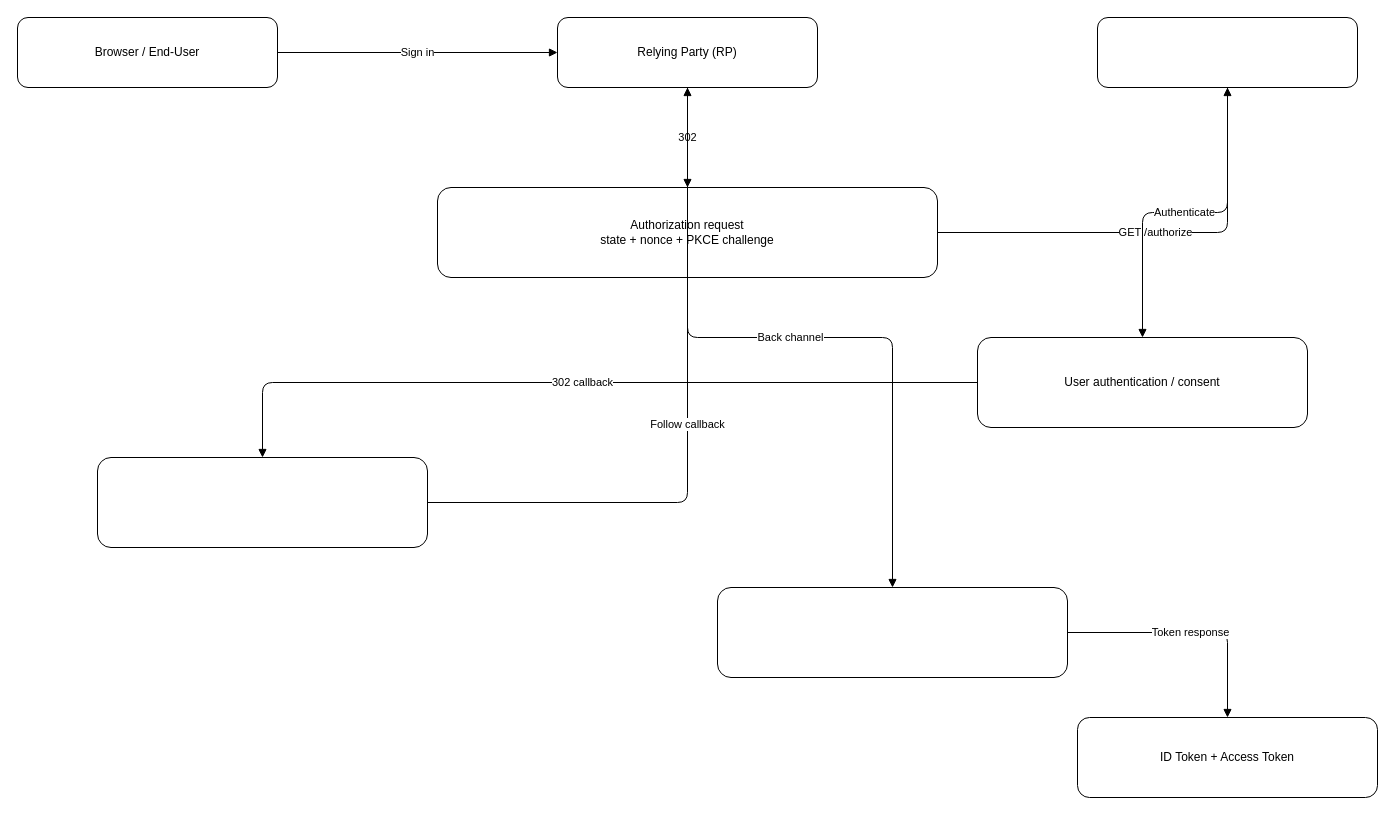
The diagram is 1395 pixels wide and 815 high, and some of its shapes have lost their labels. Here are the shapes that lost their labels. From the top down, the box of each, then its label:
(1096, 16, 1358, 88): OpenID Provider (OP)
(96, 456, 428, 548): Callback code + state
(716, 586, 1068, 678): Token request code + code_verifier
